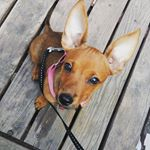puppy: (24, 1, 144, 115)
